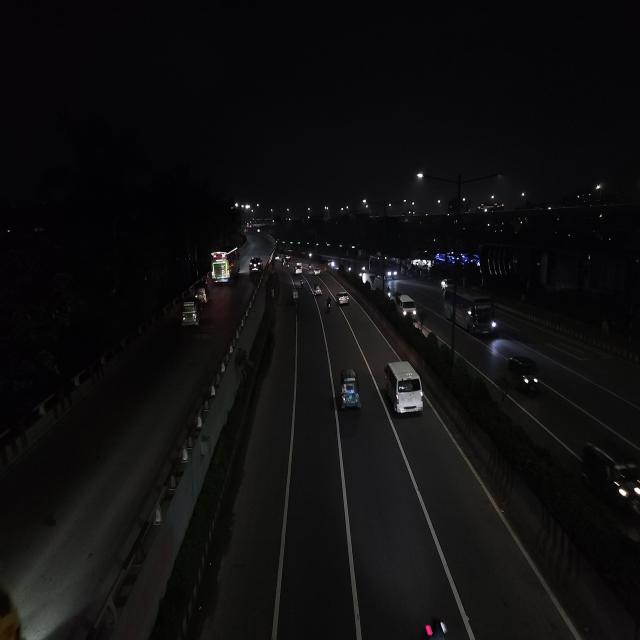bus: (440, 285, 500, 336), (210, 247, 240, 284), (385, 260, 397, 280)
car: (575, 433, 640, 517), (382, 356, 426, 422), (393, 292, 419, 320), (438, 276, 454, 292), (336, 289, 350, 306), (250, 256, 262, 272), (294, 262, 304, 276), (313, 266, 321, 277)
cng: (337, 365, 363, 414), (180, 295, 202, 329), (195, 283, 209, 306), (314, 283, 322, 297)
motorcycle: (324, 297, 332, 313)
rickshaw: (292, 290, 300, 304)
